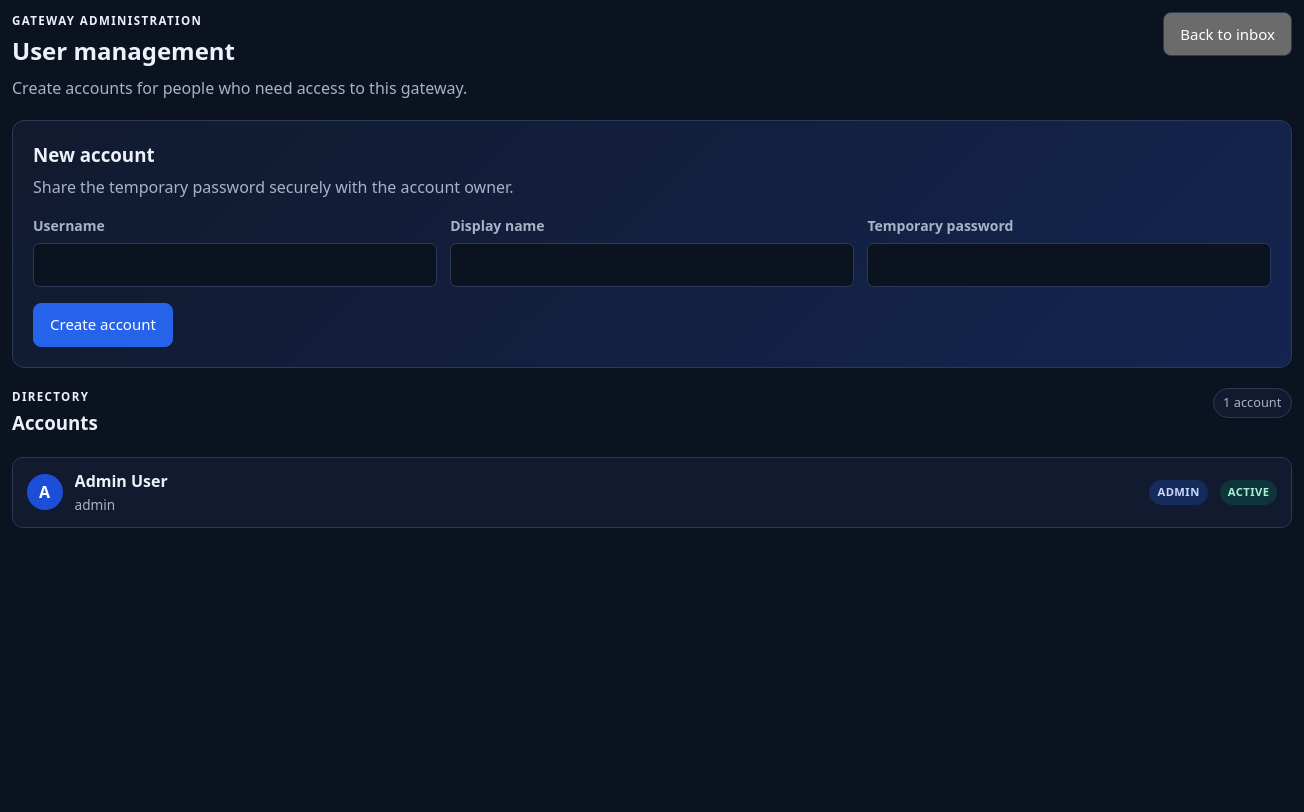
it: AdminUsers › creates an account, resets the form, and refreshes without losing the list
Check: the text "Admin User" is shown, box [75, 470, 168, 492]
Step 1. Type "teacher" into the field labelled "Username" → (235, 264), box [33, 242, 437, 286]
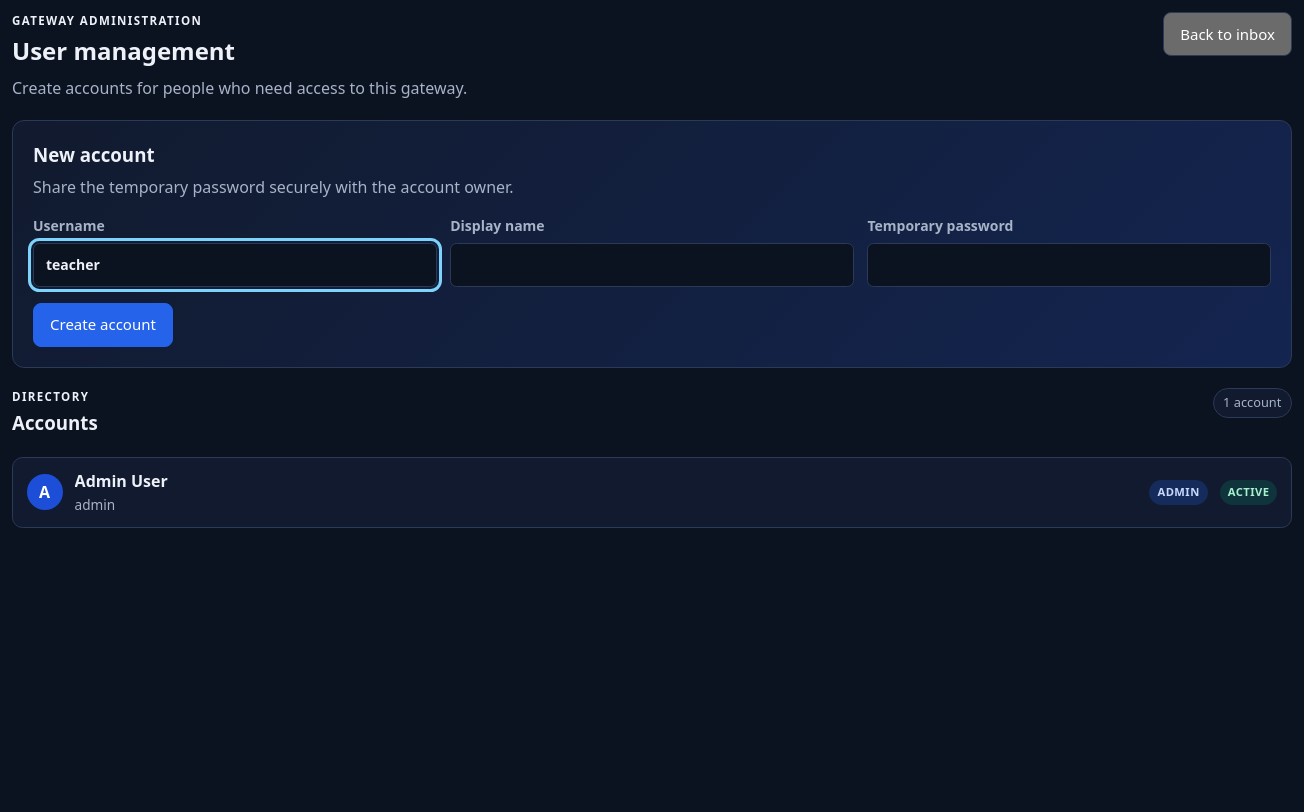
Step 2. Type "Teacher" into the field labelled "Display name" → (652, 264), box [450, 242, 854, 286]
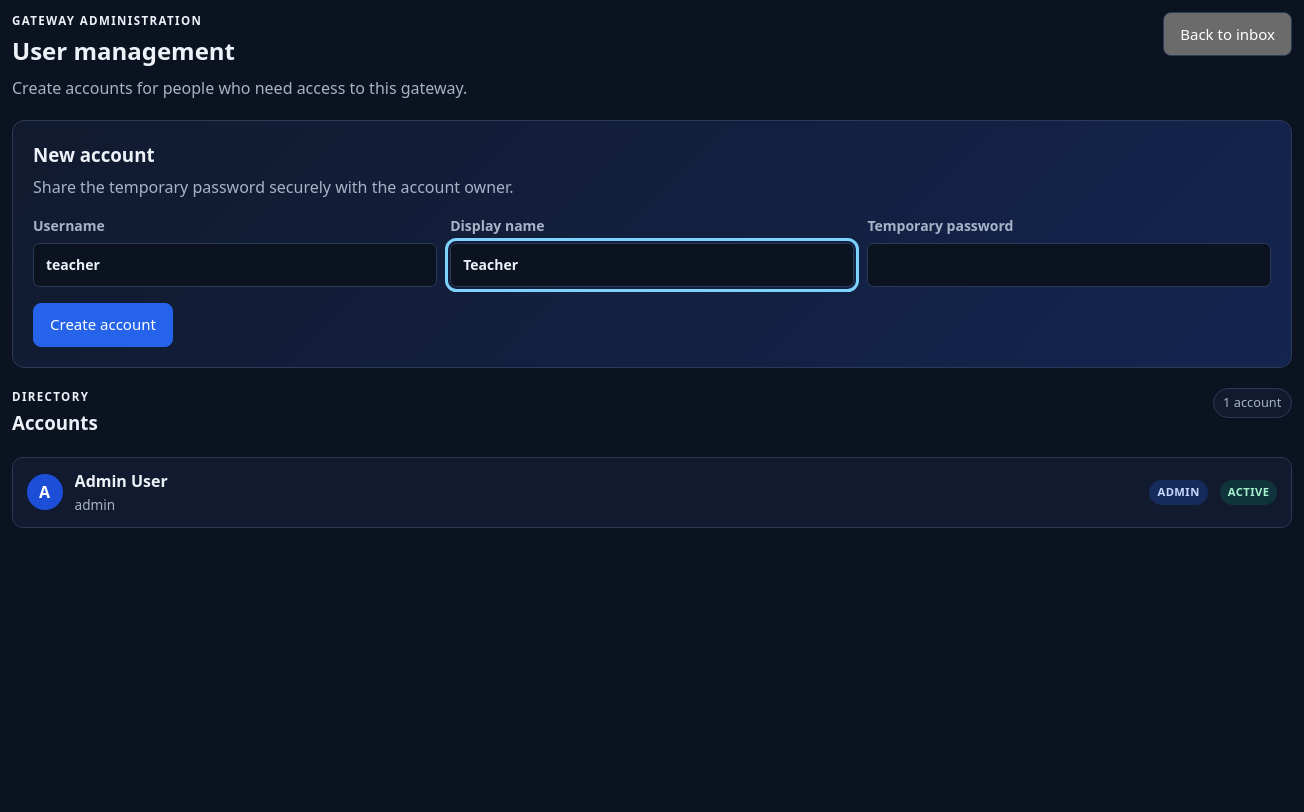
Step 3. Type "temporary-password" into the password field labelled "Temporary password" → (1069, 264), box [867, 242, 1271, 286]
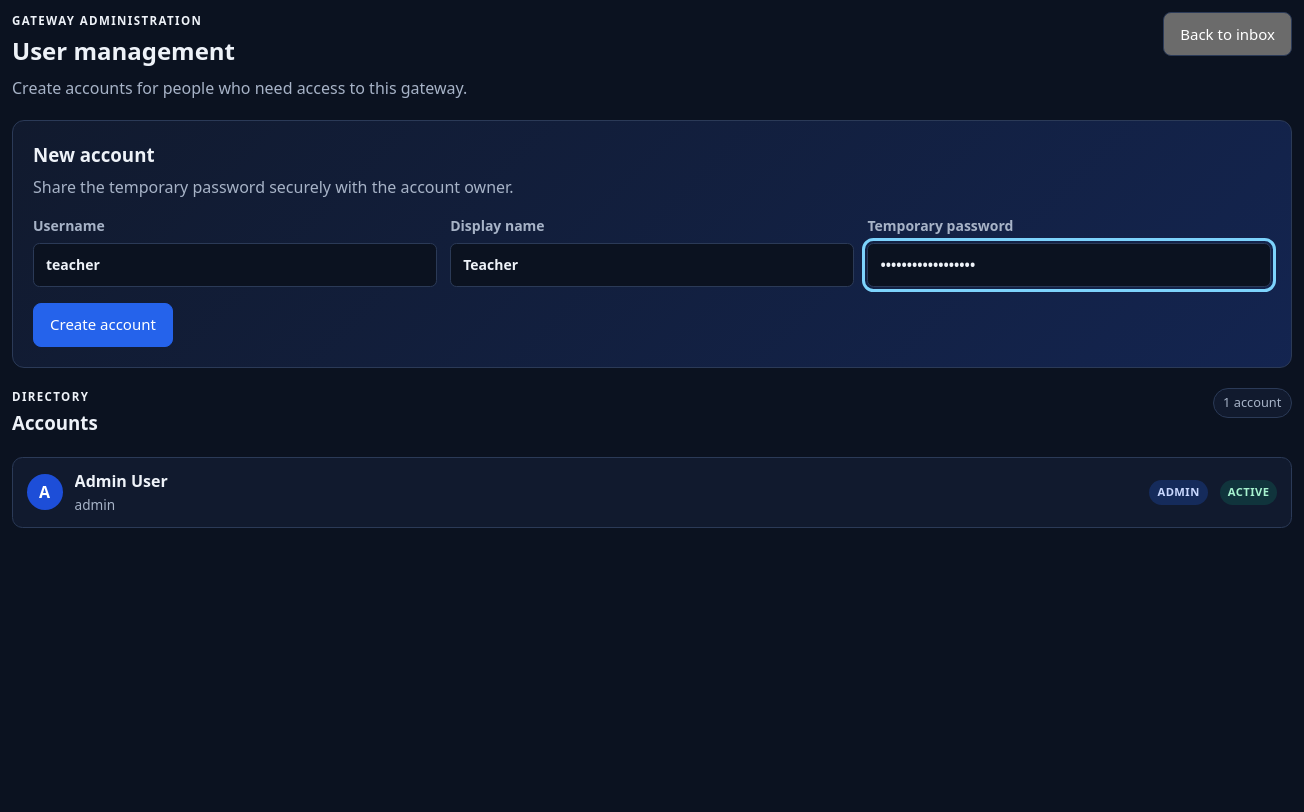
Step 4. Click the button "Create account" → (103, 324), box [33, 302, 173, 346]
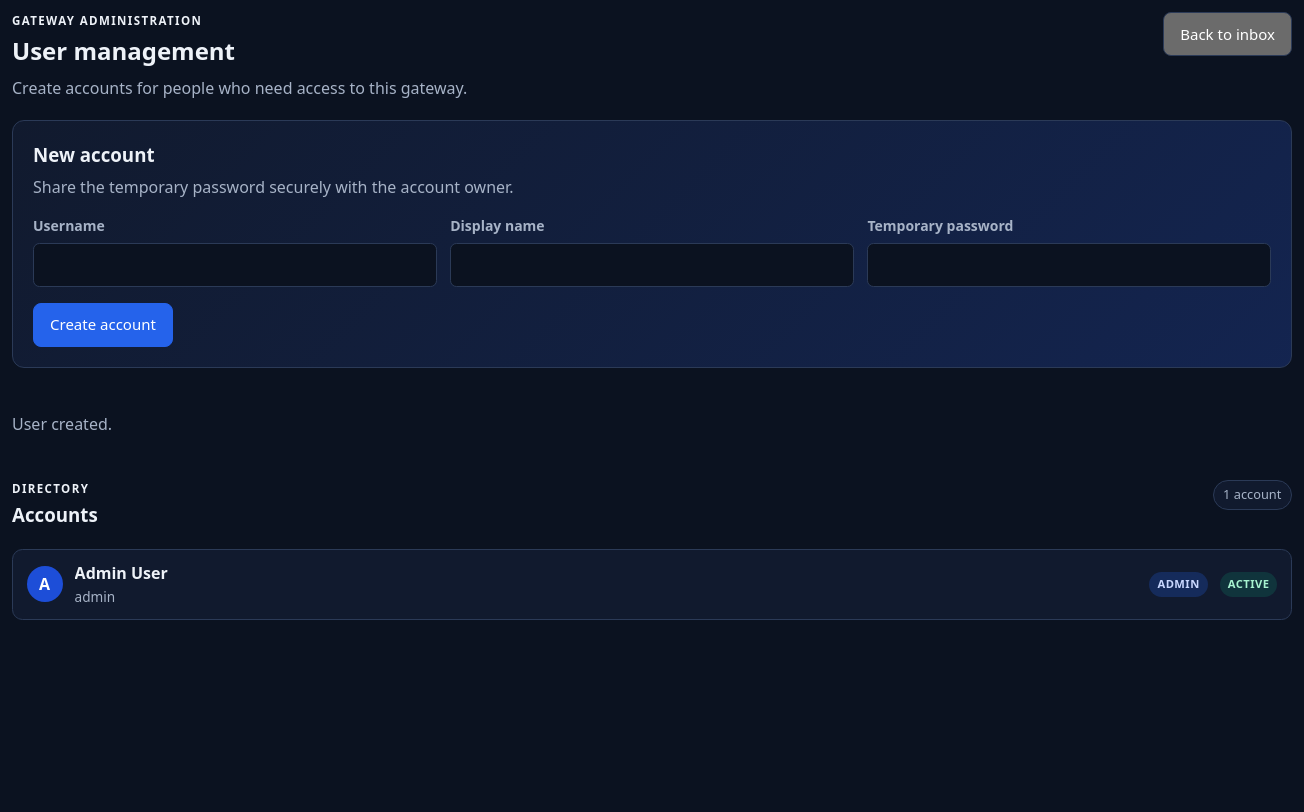
Check: the message reads "User created.", box [12, 412, 112, 434]
Check: the field labelled "Username" is empty, box [33, 242, 437, 286]
